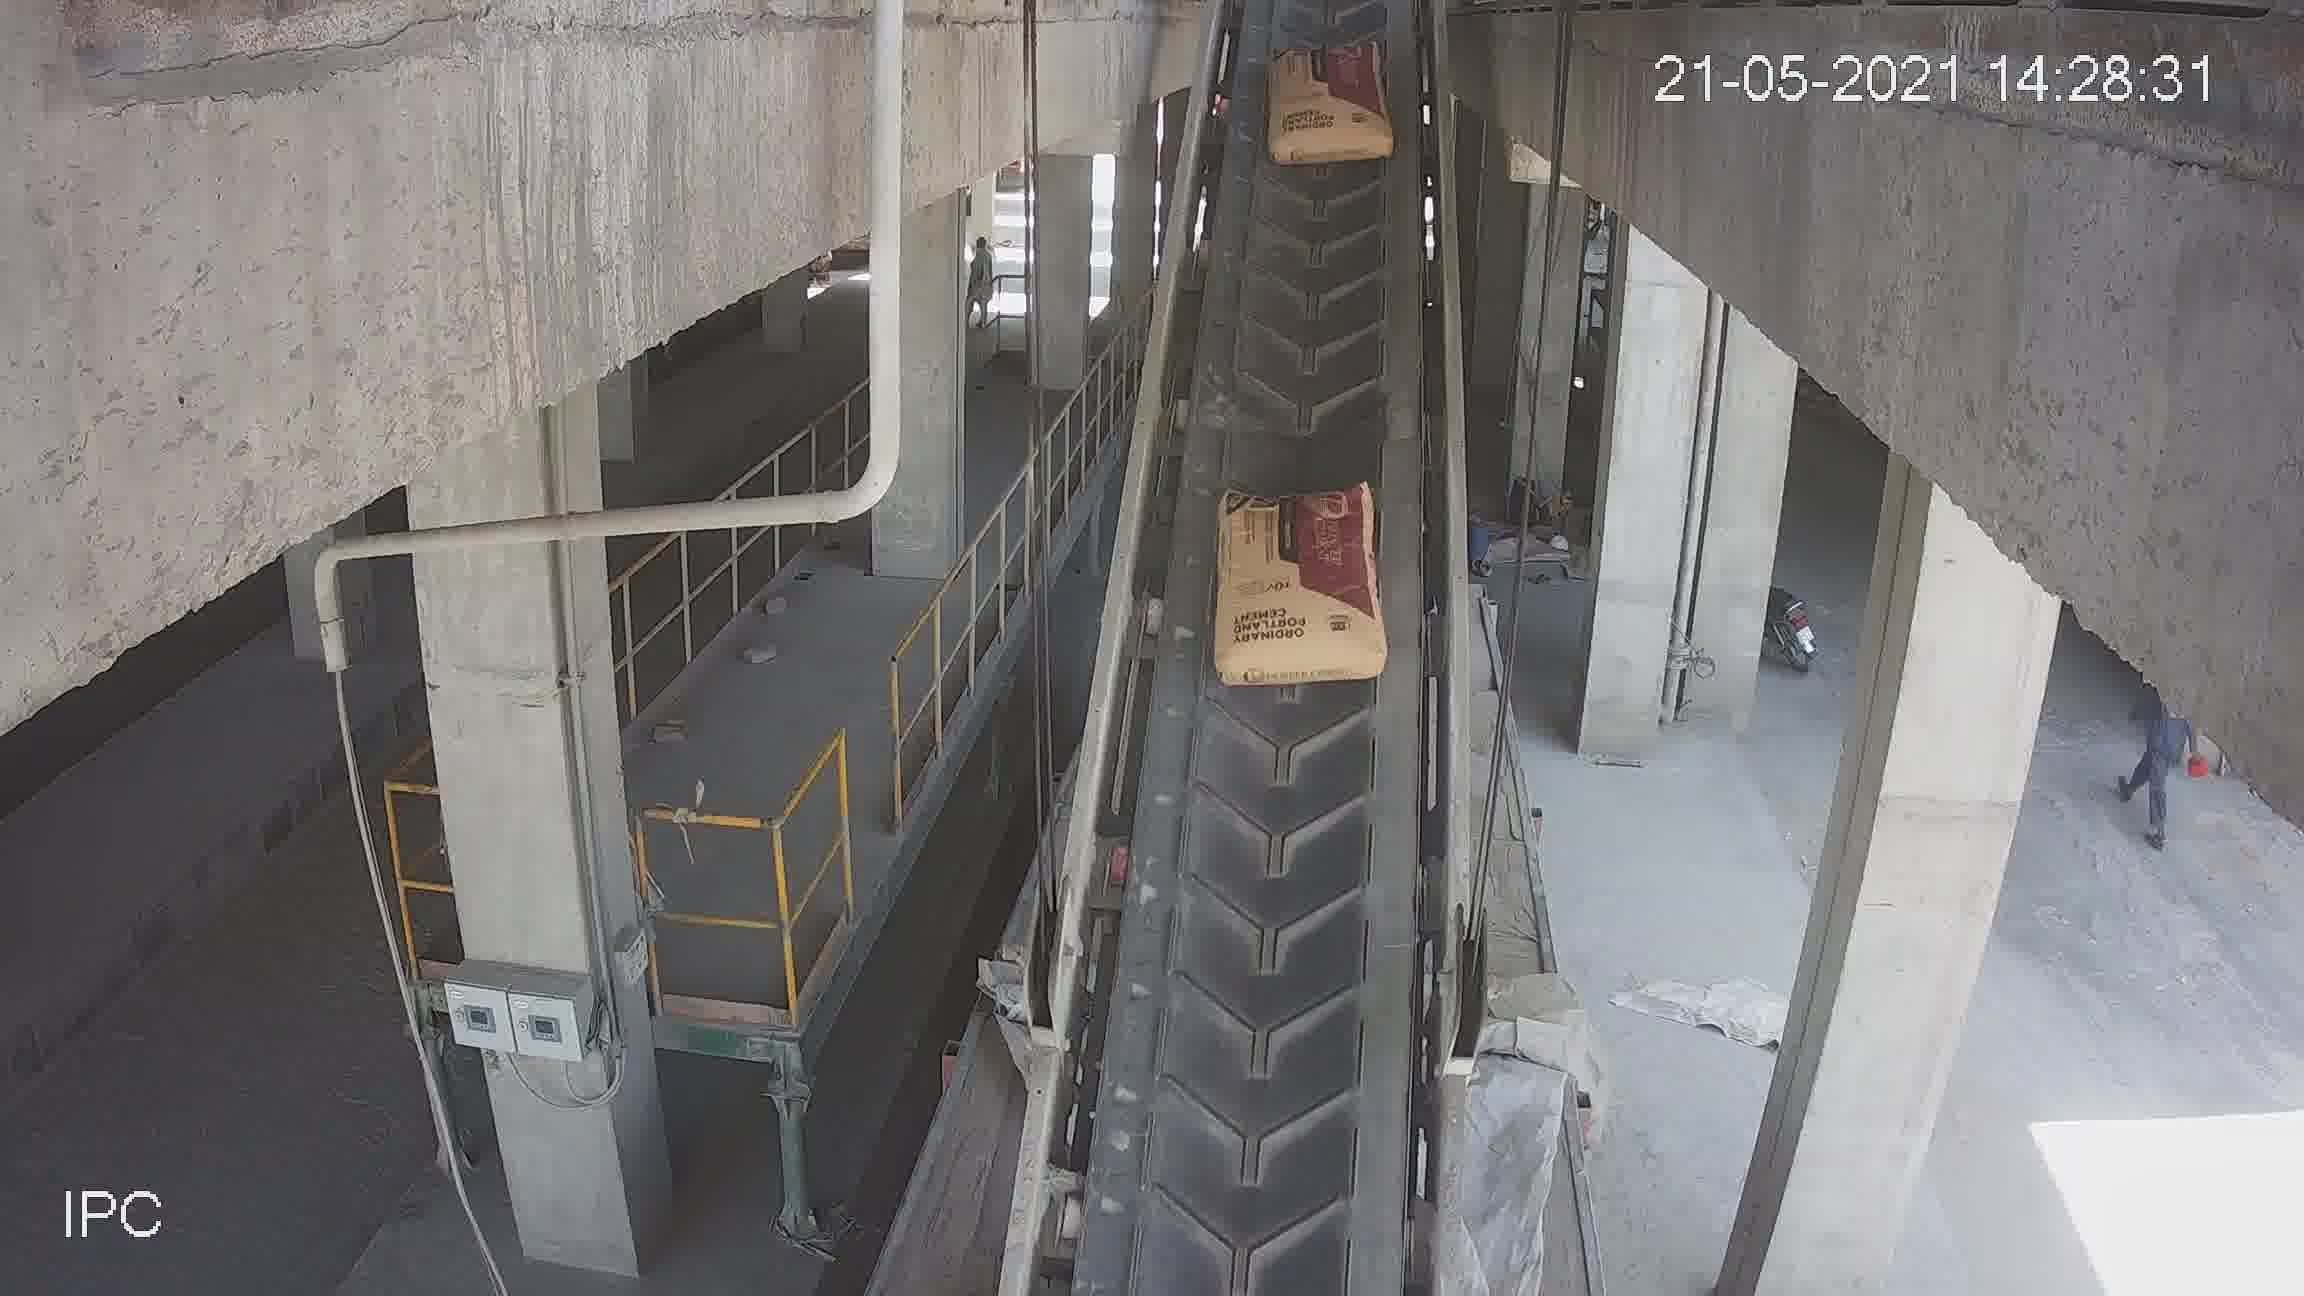bag: (1215, 494, 1383, 693), (1275, 51, 1381, 165)
belt: (1044, 27, 1467, 1253)
